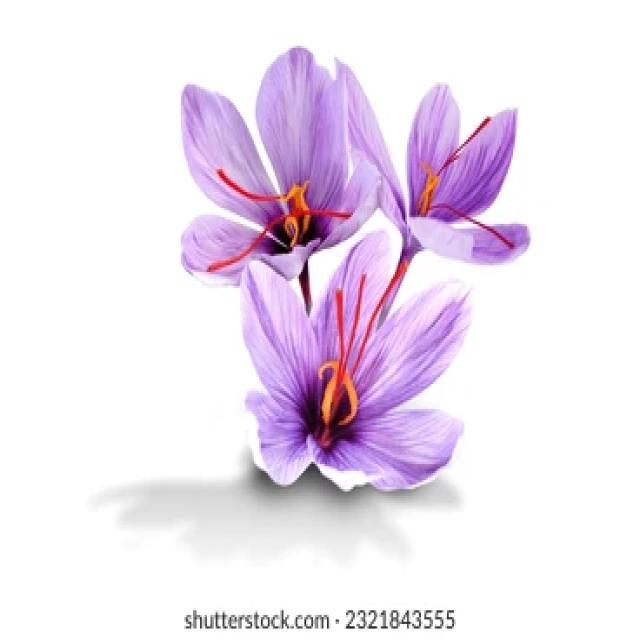Flower: (231, 274, 484, 466), (197, 86, 362, 277), (374, 114, 526, 249)
stigma: (208, 204, 346, 274), (354, 255, 416, 385), (419, 115, 491, 200), (217, 155, 306, 209), (446, 205, 517, 253), (350, 269, 370, 363), (332, 284, 349, 363)
